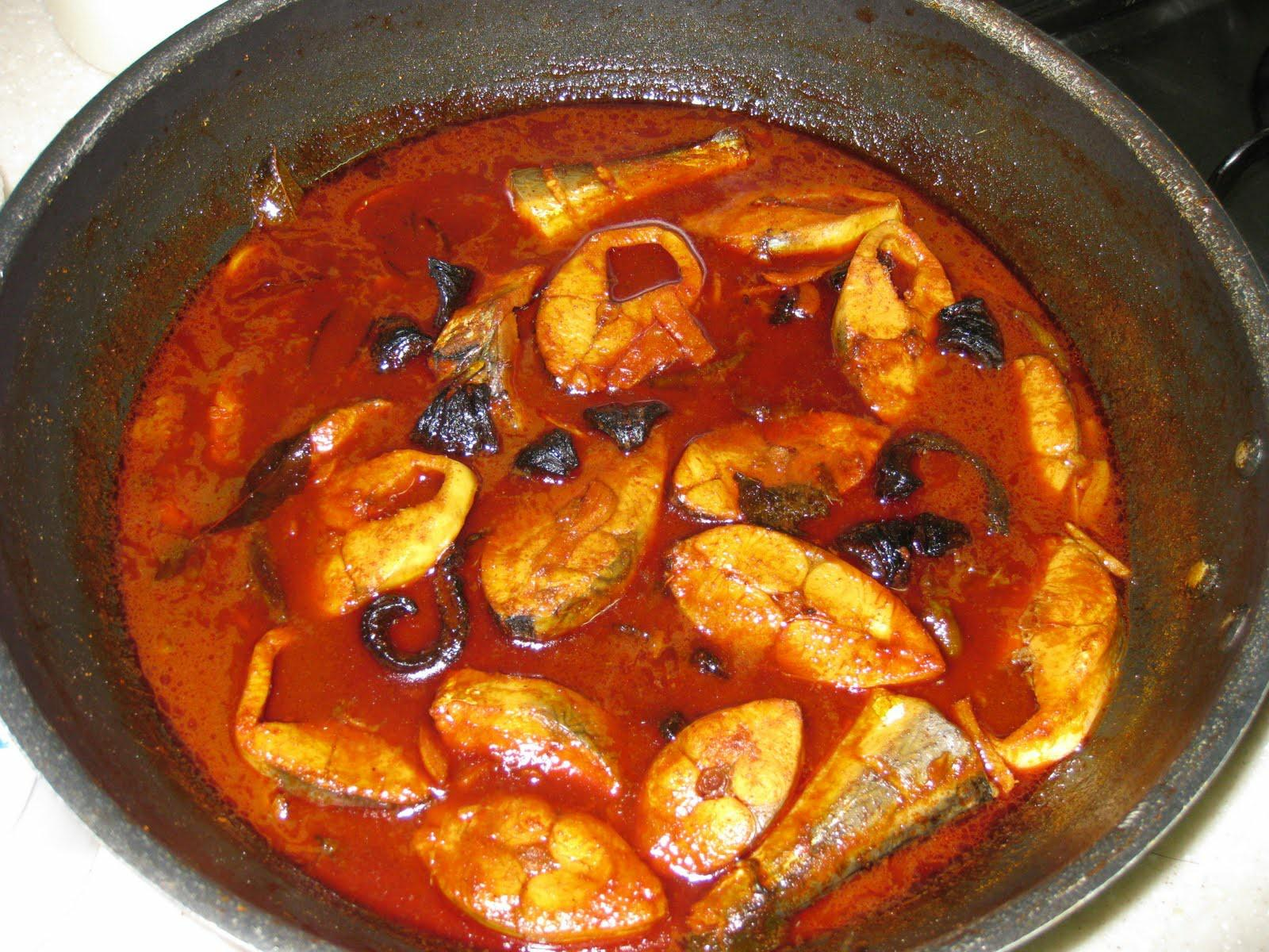FishCurry: (112, 100, 1126, 952)
